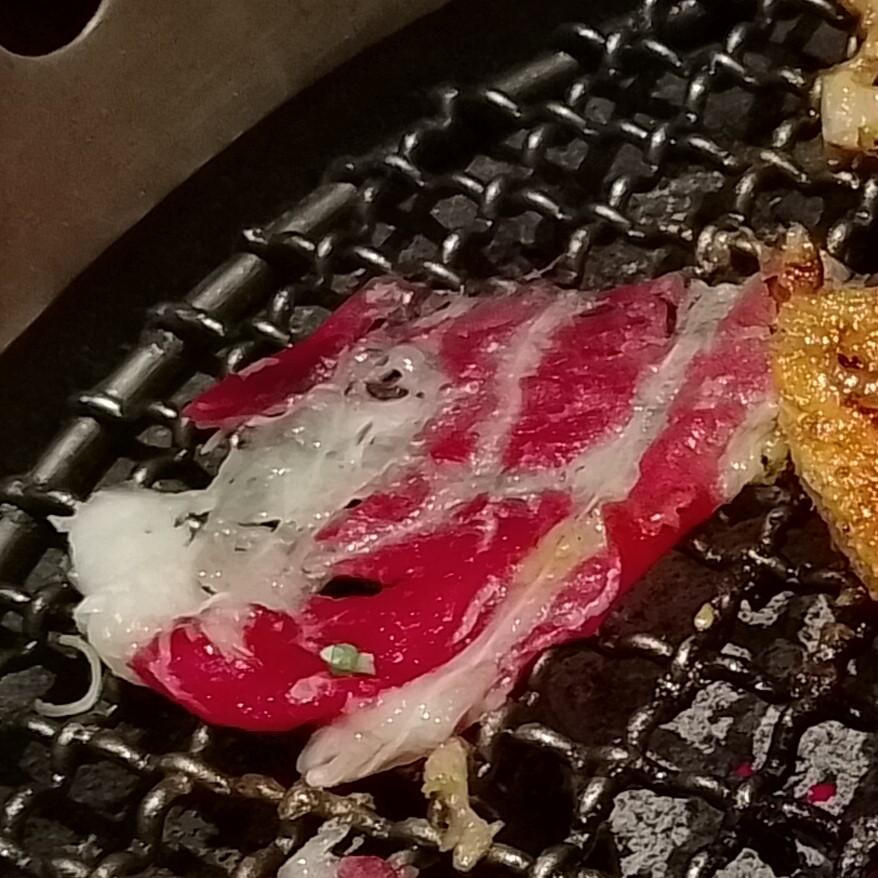Overcooked: (56, 262, 776, 786)
